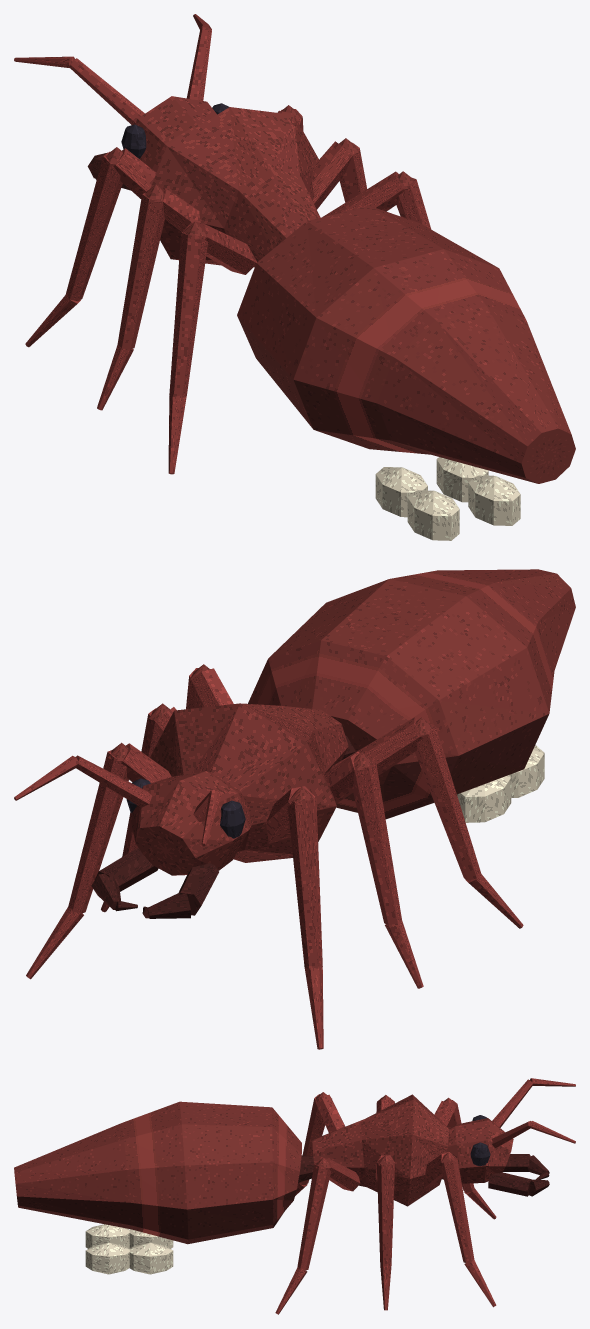
The model's file is mon_ant_queen.glb.
3 views of the same model, one above another, from view 1: azimuth 30°, elevation 25°; view 2: azimuth 150°, elevation 25°; view 3: azimuth 270°, elevation 25° (orthographic). The views are drawn at different scales.
Visible parts, largest first — view 1: closed_body; view 2: closed_body; view 3: closed_body.
Boxes of the visible parts, bbox=[...] form: closed_body: bbox=[14, 14, 575, 540]; closed_body: bbox=[14, 569, 575, 1049]; closed_body: bbox=[14, 1078, 575, 1314].
Size of the model in its own units: 1.85 by 1.36 by 4.2.
Materials: 1 (1 with a texture image).
